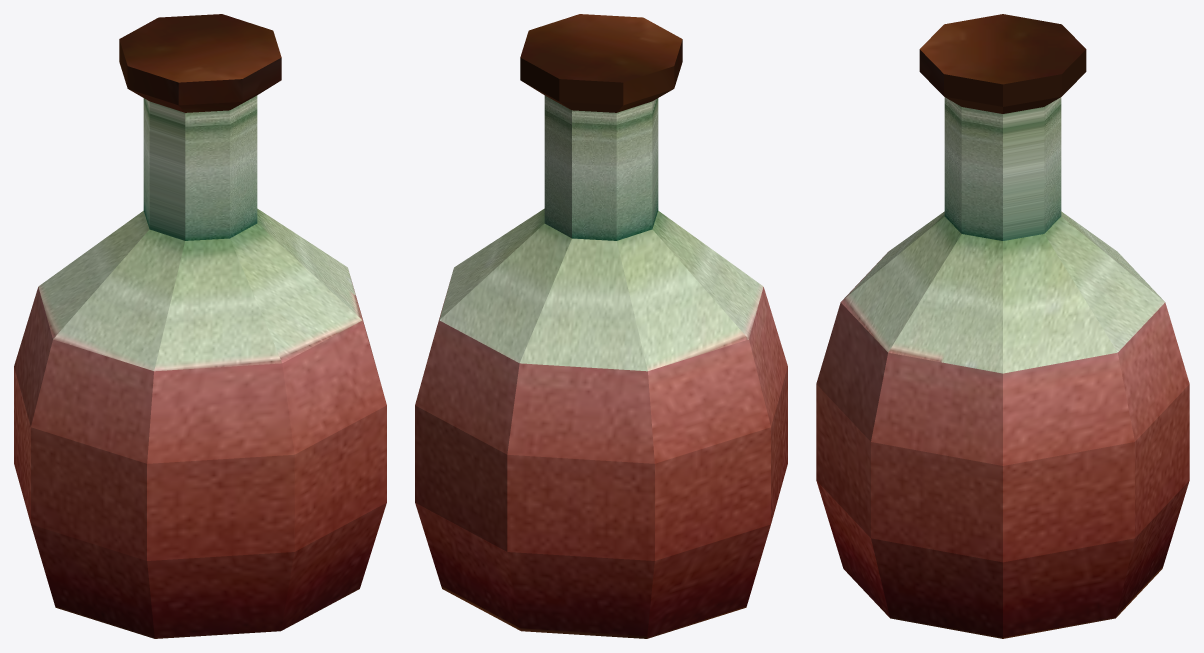
File: ITFO_WINE.glb
3 renders of one model, left to right at view 1: azimuth 30°, elevation 25°; view 2: azimuth 150°, elevation 25°; view 3: azimuth 270°, elevation 25°, orthographic.
Parts seen in each view (by area): view 1: ITFO_WINE; view 2: ITFO_WINE; view 3: ITFO_WINE.
Boxes of the visible parts, box(x1,y1,x2,y2) form: ITFO_WINE: box(14, 14, 386, 638); ITFO_WINE: box(415, 14, 787, 638); ITFO_WINE: box(816, 14, 1189, 638).
Size of the model in its own units: 0.1911 by 0.2822 by 0.1838.
Materials: 1 (1 with a texture image).
